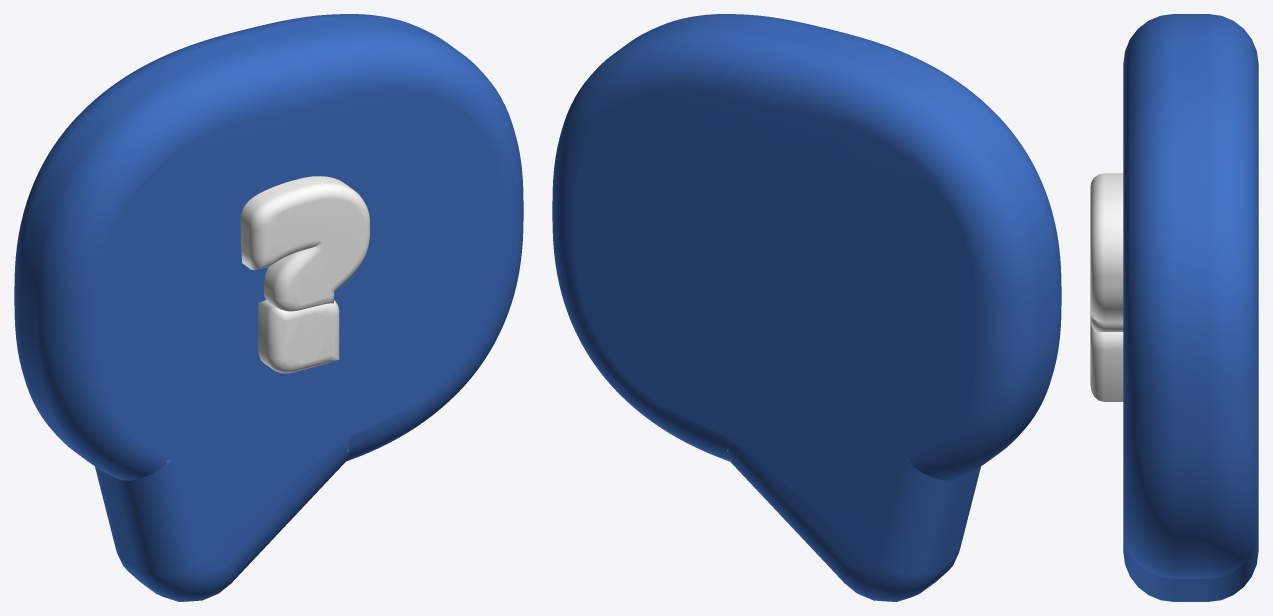
The model's file is idea-bubble.glb.
The picture shows the model from 3 angles, left to right: view 1: azimuth 30°, elevation 25°; view 2: azimuth 150°, elevation 25°; view 3: azimuth 270°, elevation 25°; orthographic projection. The views are drawn at different scales.
Parts seen in each view (by area): view 1: bubble, question_mark; view 2: bubble; view 3: bubble, question_mark.
Boxes of the visible parts, left/top/right/bottom form: bubble: left=14, top=14, right=523, bottom=601; question_mark: left=240, top=176, right=369, bottom=373; bubble: left=552, top=14, right=1061, bottom=601; bubble: left=1123, top=14, right=1258, bottom=601; question_mark: left=1090, top=173, right=1123, bottom=401.
Bounding box in the file's own units: 0.312 × 0.331 × 0.087.
